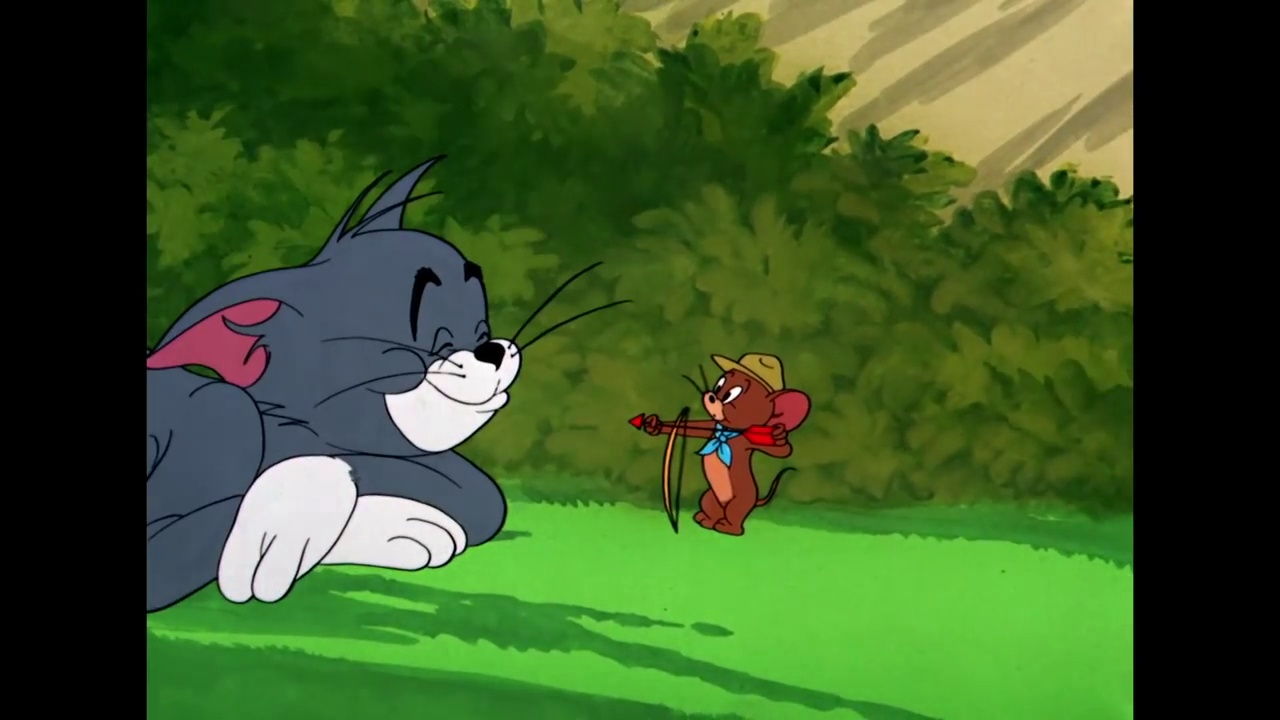tom: (141, 152, 532, 465)
